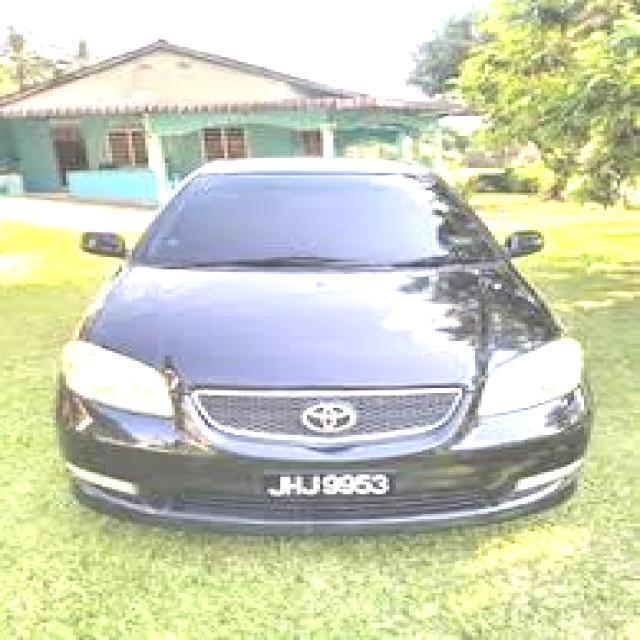ToyotaVios: (54, 154, 593, 536)
